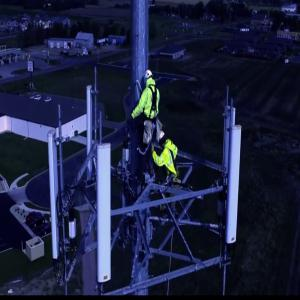white: (145, 71, 154, 86), (159, 131, 167, 147)
